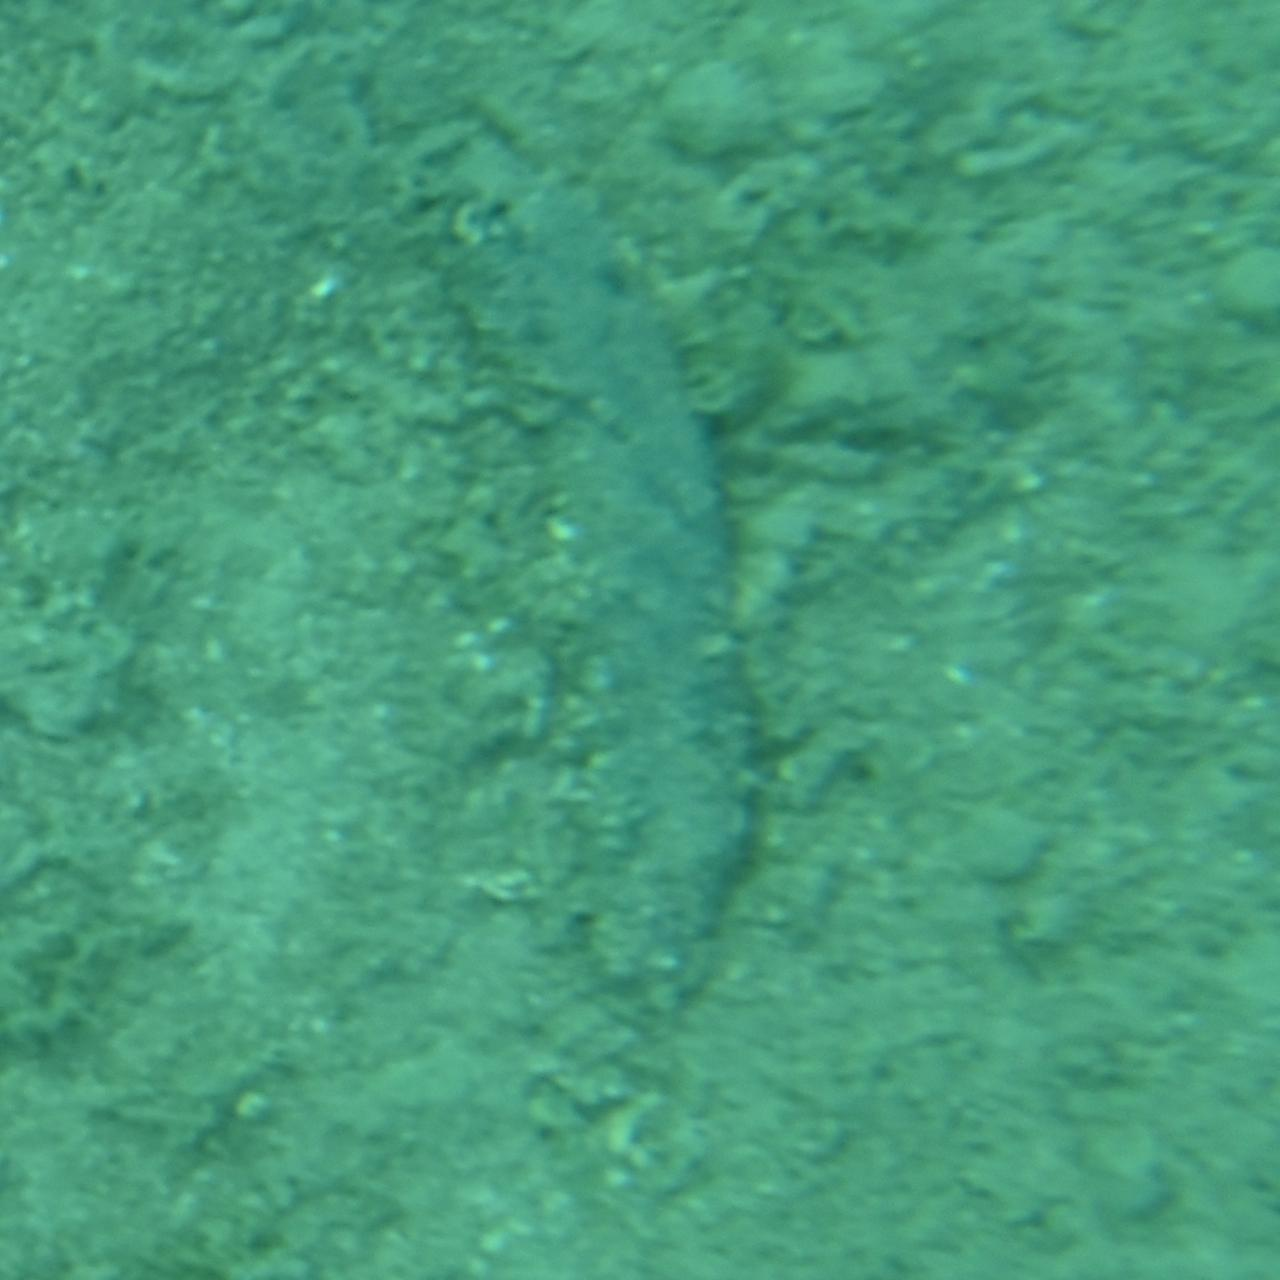Holothuria tubulosa: (510, 230, 770, 1050)
